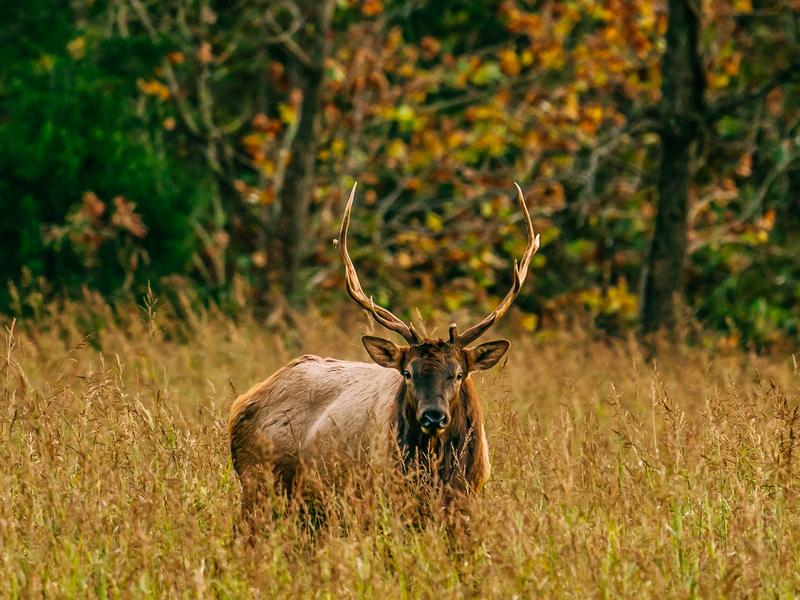elk: (225, 232, 532, 561)
